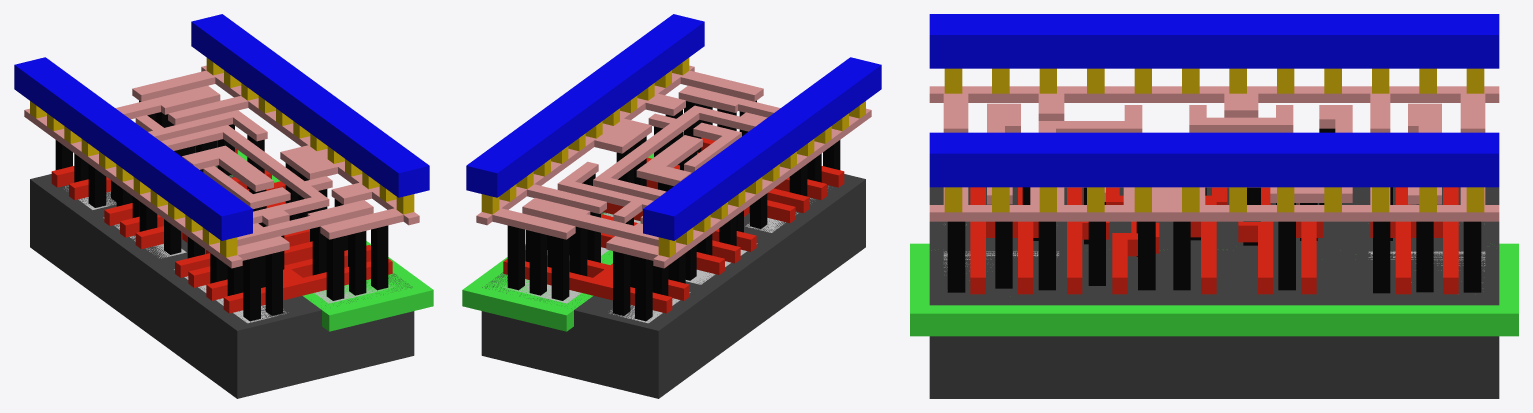
Rendered from sky130_fd_sc_hd__ha_2.obj.
3 renders of one model, left to right at view 1: azimuth 30°, elevation 25°; view 2: azimuth 150°, elevation 25°; view 3: azimuth 270°, elevation 25°, orthographic. The views are drawn at different scales.
Parts seen in each view (by area): view 1: subs, metal1, li, licon, poly, mcon, nwell, diff; view 2: subs, metal1, li, licon, poly, mcon, nwell, diff, tap; view 3: metal1, subs, li, nwell, poly, licon, mcon.
Part boxes in pixels (x1,y1,x2,y2): subs: [30, 165, 414, 398]; metal1: [14, 14, 429, 240]; li: [24, 65, 419, 268]; licon: [55, 100, 388, 321]; poly: [51, 140, 392, 313]; mcon: [30, 58, 414, 257]; nwell: [229, 150, 433, 331]; diff: [64, 186, 288, 323]; subs: [481, 174, 865, 398]; metal1: [466, 14, 881, 240]; li: [476, 65, 871, 268]; licon: [507, 100, 840, 321]; poly: [503, 132, 844, 313]; mcon: [481, 58, 865, 257]; nwell: [462, 131, 683, 331]; diff: [609, 186, 828, 323]; tap: [503, 213, 640, 303]; metal1: [929, 14, 1499, 187]; subs: [929, 187, 1499, 398]; li: [929, 86, 1499, 221]; nwell: [910, 243, 1518, 336]; poly: [970, 187, 1458, 294]; licon: [947, 128, 1481, 293]; mcon: [944, 68, 1484, 212].
Size of the model in its own units: 3.2 by 2.74 by 5.9.
